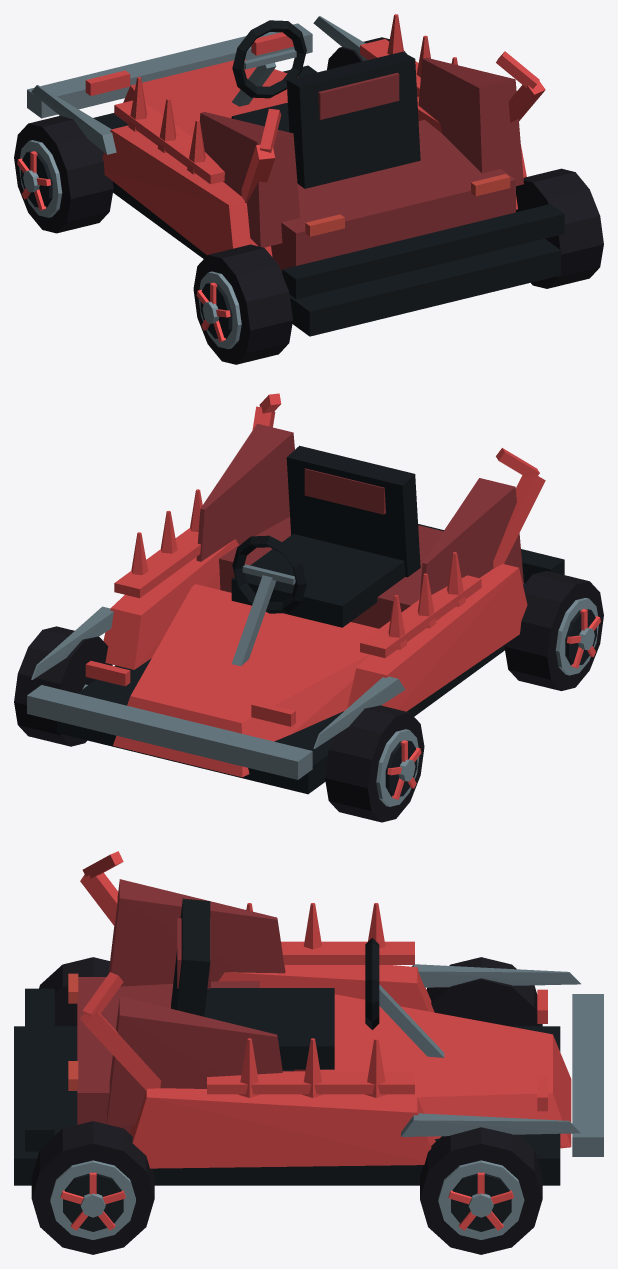
The model's file is kart.glb.
3 renders of one model, top to bottom at view 1: azimuth 30°, elevation 25°; view 2: azimuth 150°, elevation 25°; view 3: azimuth 270°, elevation 25°, orthographic. The views are drawn at different scales.
Parts seen in each view (by area): view 1: chassis, wheel-rear-left, wheel-front-left, wheel-rear-right, wheel-front-right; view 2: chassis, wheel-front-left, wheel-rear-left, wheel-front-right; view 3: chassis, wheel-rear-right, wheel-front-right, wheel-front-left, wheel-rear-left.
Part boxes in pixels (x1,y1,x2,y2): chassis: (27, 14, 564, 336); wheel-rear-left: (193, 244, 292, 364); wheel-front-left: (14, 115, 113, 233); wheel-rear-right: (516, 168, 603, 288); wheel-front-right: (327, 37, 406, 69); chassis: (27, 393, 564, 794); wheel-front-left: (325, 705, 424, 822); wheel-rear-left: (504, 571, 603, 690); wheel-front-right: (14, 626, 112, 746); chassis: (14, 851, 603, 1185); wheel-rear-right: (31, 1121, 154, 1254); wheel-front-right: (420, 1127, 542, 1254); wheel-front-left: (426, 957, 542, 1026); wheel-rear-left: (39, 957, 109, 1026).
Bounding box in the file's own units: 2.4 × 1.38 × 2.98.
